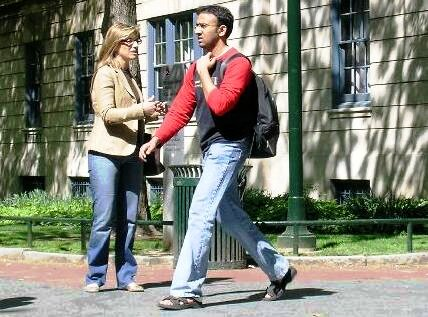person: (145, 1, 298, 297), (85, 18, 164, 292)
